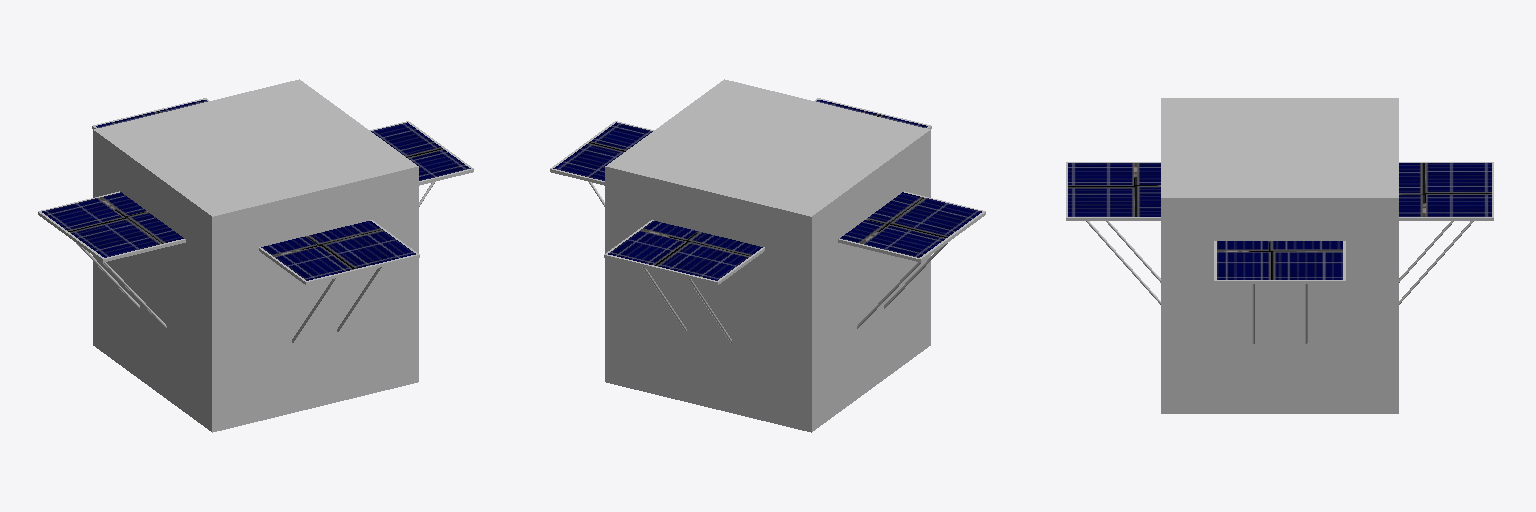
The picture shows the model from 3 angles: view 1: azimuth 30°, elevation 25°; view 2: azimuth 150°, elevation 25°; view 3: azimuth 270°, elevation 25°; orthographic projection.
Visible parts, largest first — view 1: _root_Cube.003, shiny_panel_Layer_1.024, tex_01_Layer_1.011, black_krinkle_Layer_1.006; view 2: _root_Cube.003, shiny_panel_Layer_1.024, tex_01_Layer_1.011, black_krinkle_Layer_1.006; view 3: _root_Cube.003, shiny_panel_Layer_1.024, tex_01_Layer_1.011, black_krinkle_Layer_1.006.
Boxes of the visible parts, x1=… form: _root_Cube.003: x1=93, y1=79, x2=418, y2=432; shiny_panel_Layer_1.024: x1=42, y1=100, x2=470, y2=280; tex_01_Layer_1.011: x1=38, y1=98, x2=473, y2=285; black_krinkle_Layer_1.006: x1=76, y1=182, x2=434, y2=342; _root_Cube.003: x1=605, y1=79, x2=930, y2=432; shiny_panel_Layer_1.024: x1=553, y1=100, x2=981, y2=280; tex_01_Layer_1.011: x1=550, y1=98, x2=985, y2=285; black_krinkle_Layer_1.006: x1=589, y1=182, x2=947, y2=342; _root_Cube.003: x1=1161, y1=98, x2=1398, y2=413; shiny_panel_Layer_1.024: x1=1068, y1=163, x2=1491, y2=279; tex_01_Layer_1.011: x1=1066, y1=162, x2=1493, y2=283; black_krinkle_Layer_1.006: x1=1086, y1=221, x2=1473, y2=343.
Bounding box in the file's own units: 1.8 × 1 × 1.8.
5 materials, 1 textured.